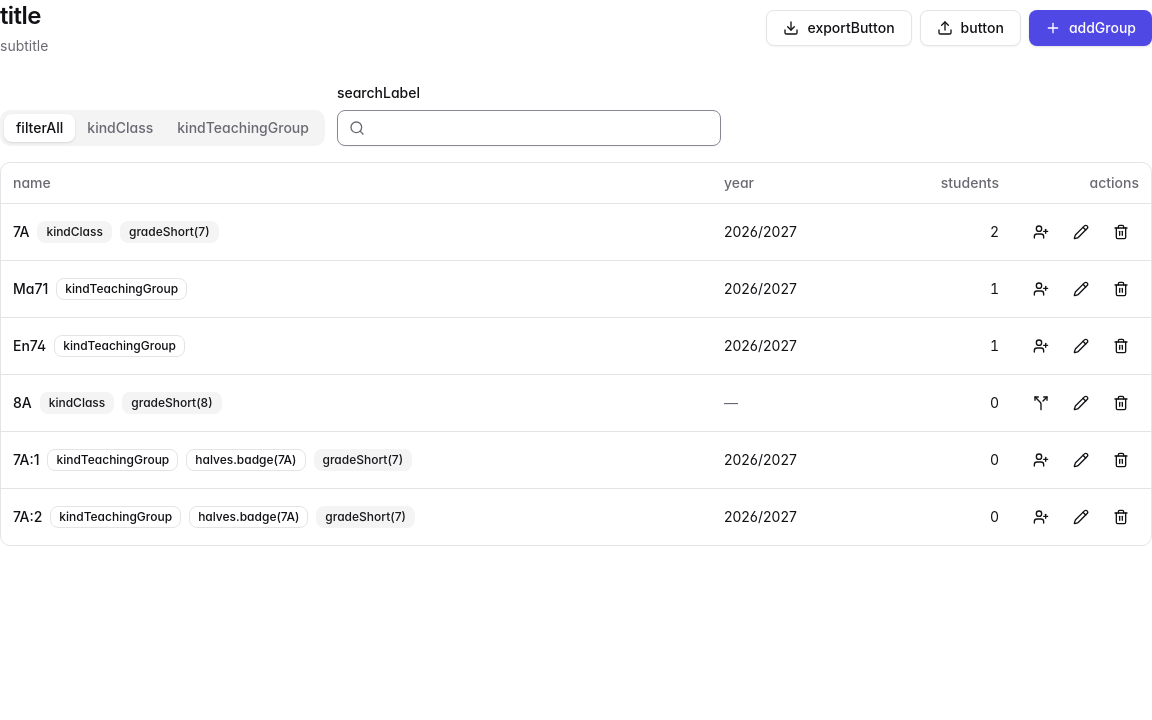
it: Halvklasser: what the placement will not do › asks the pupils and the memberships again at every opening, and draws nothing from an answer older than it
Click the 1st button named "halves.placeTitle(7A)" at (1041, 232), box [1023,214,1059,250]
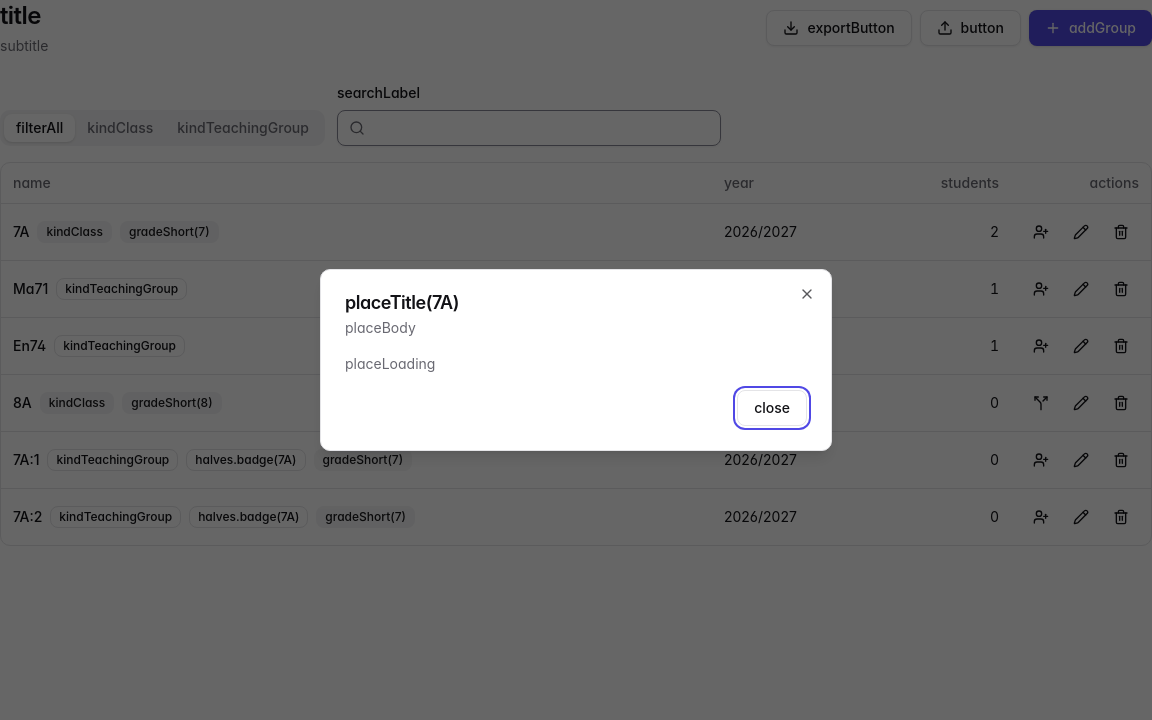
Expected: the message reads "placeLoading", [345,355,435,372]
